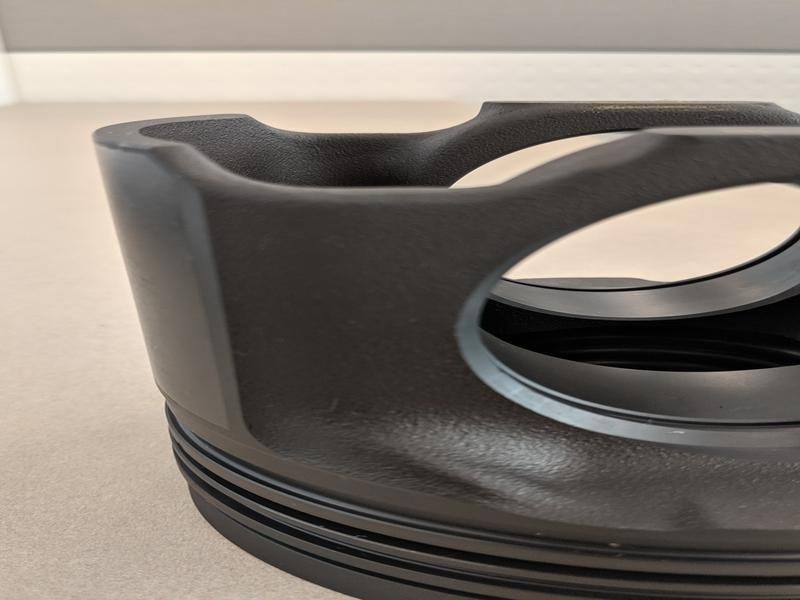piston: (87, 94, 796, 600)
